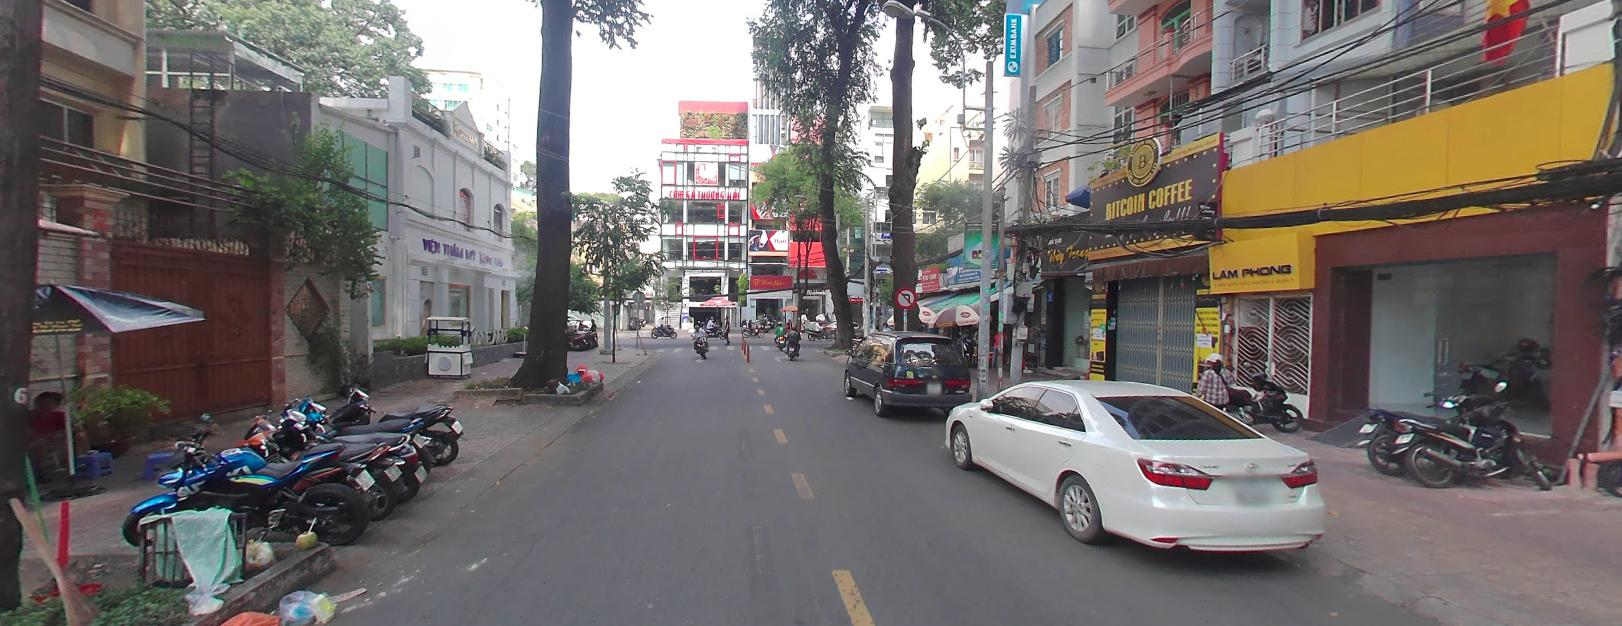Cam re: (895, 285, 917, 308)
